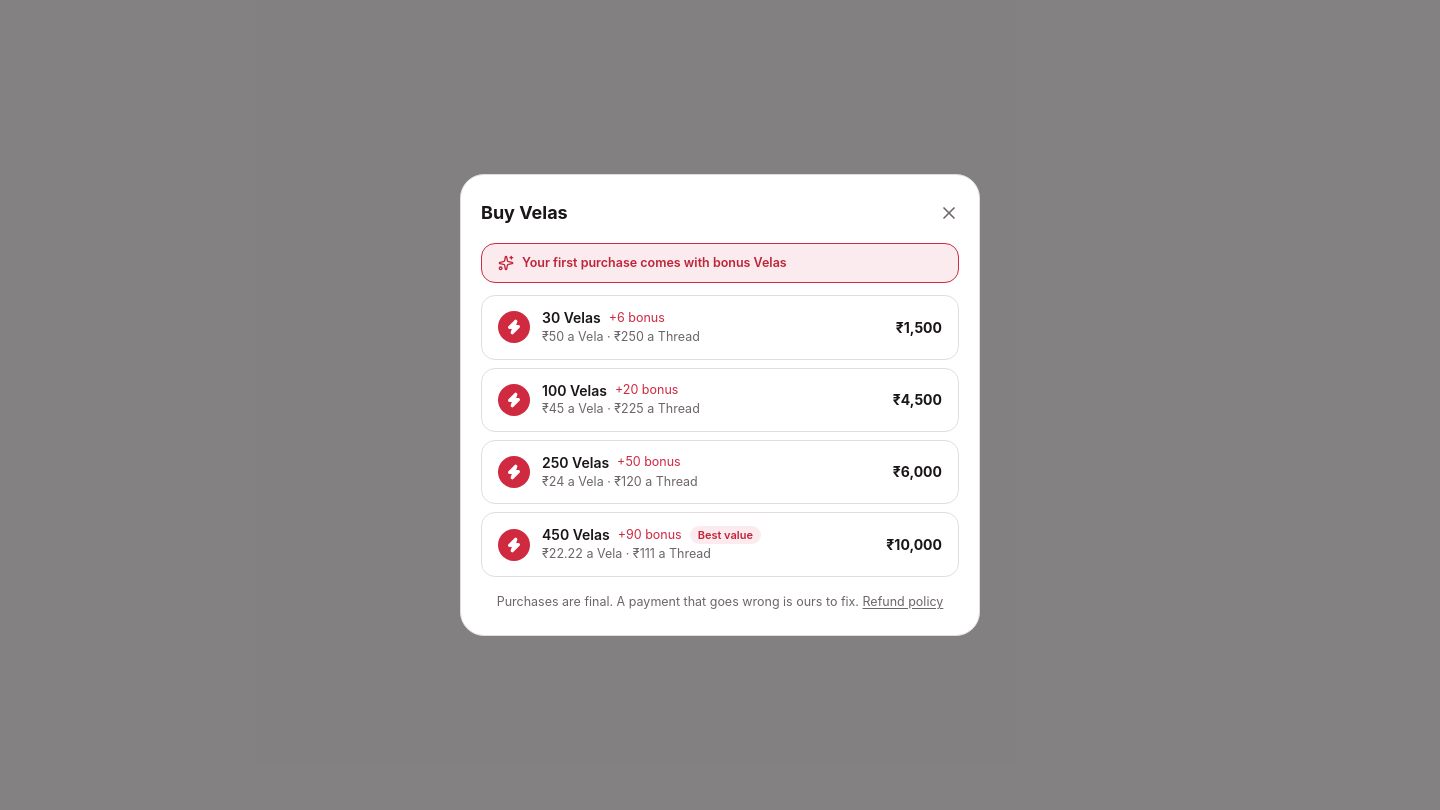
it: an order that can't open a window: nothing was charged › refused with NOT_FOUND, it says so
The width and height of the screenshot is (1440, 810).
What coordinates should you click on to do the following:
click the button "30 Velas +6 bonus ₹50 a Vela · ₹250 a Thread ₹1,500"
I would click on:
 (514, 327)
Its box is [481,295,959,360].
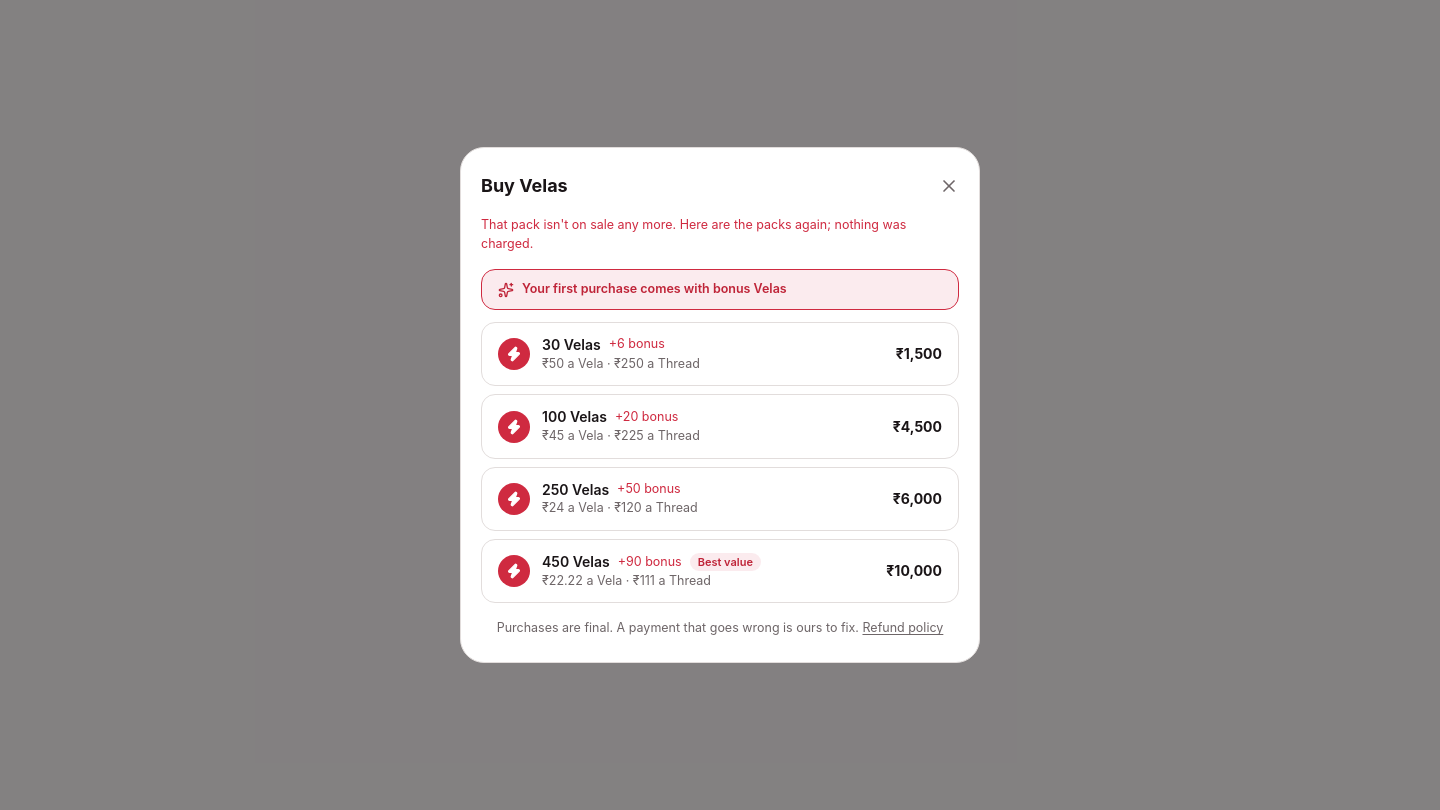
Expected: the message reads "That pack isn't on sale any more. Here are the packs again; nothing was charged.", [481,217,906,251]
